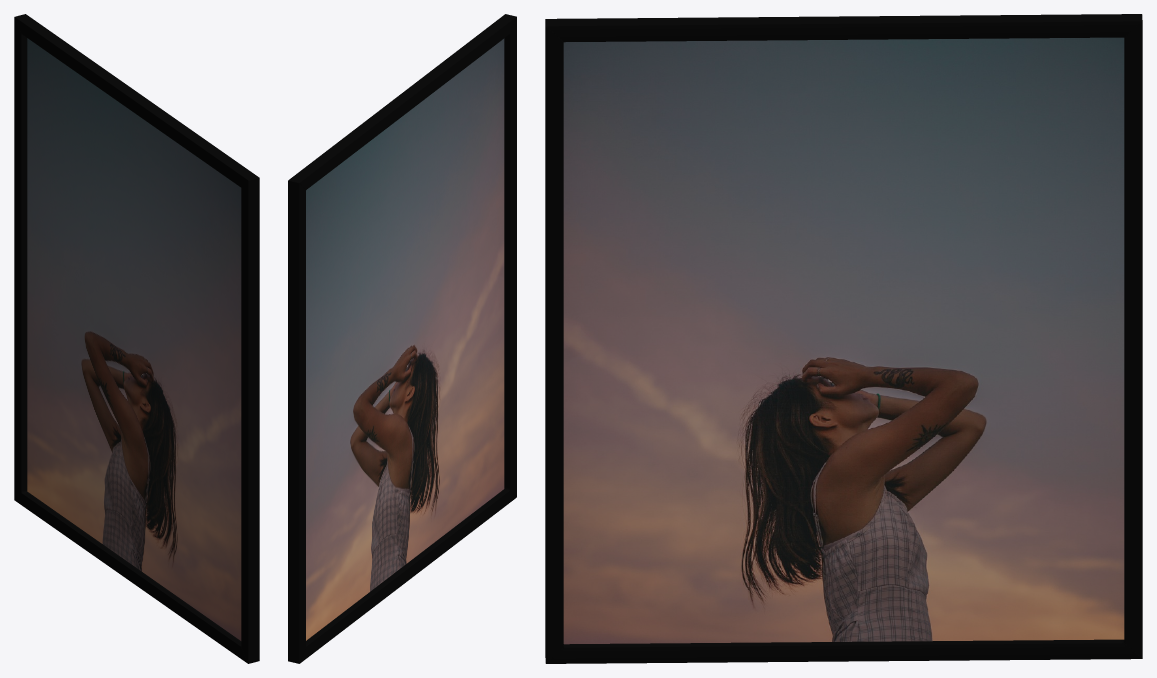
File: PhotoFrame1.glb
3 renders of one model, left to right at view 1: azimuth 30°, elevation 25°; view 2: azimuth 150°, elevation 25°; view 3: azimuth 270°, elevation 25°, orthographic. The views are drawn at different scales.
Visible parts, largest first — view 1: DainTasker_Frame.005; view 2: DainTasker_Frame.005; view 3: DainTasker_Frame.005.
Part boxes in pixels (bbox=[...]): DainTasker_Frame.005: bbox=[14, 14, 259, 663]; DainTasker_Frame.005: bbox=[288, 14, 516, 663]; DainTasker_Frame.005: bbox=[545, 14, 1142, 663].
Bounding box in the file's own units: 0.161 × 3.91 × 3.32.
2 materials, 1 textured.
